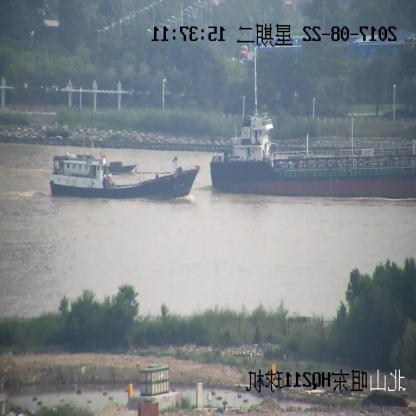Bulk Carrier: (210, 48, 416, 198)
